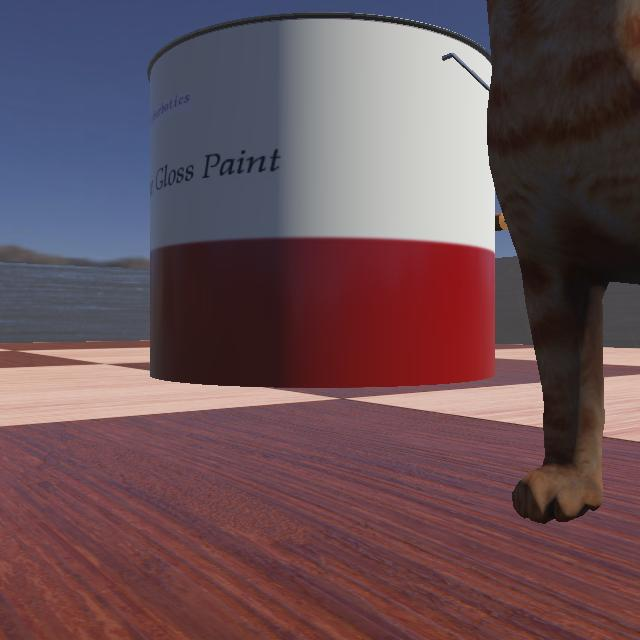cat: (385, 0, 639, 612), (385, 0, 639, 612)
paint-bucket: (97, 11, 639, 391)
